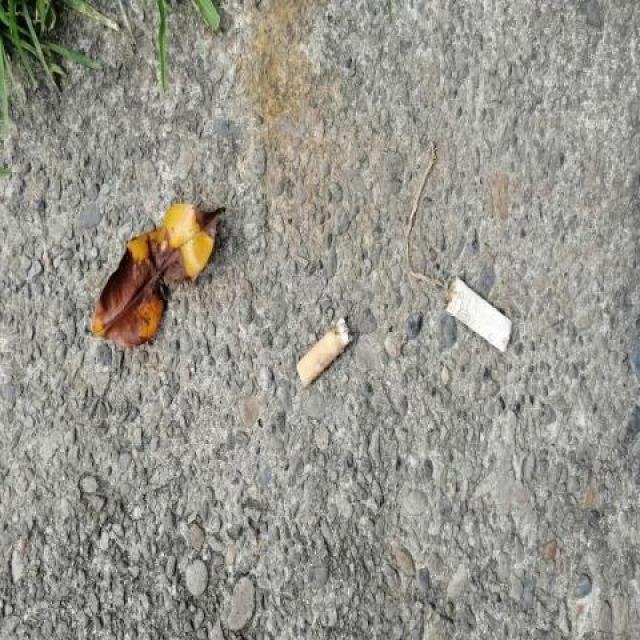non-organic waste: (442, 272, 517, 356), (292, 315, 356, 392)
